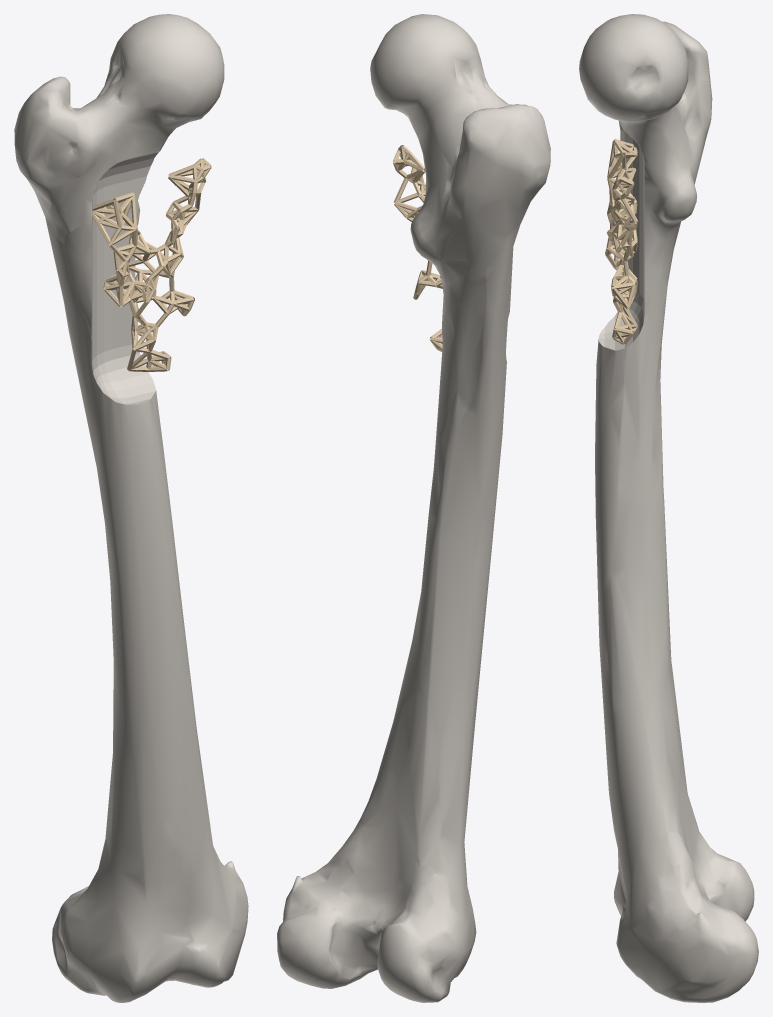
The model's file is femur_cutaway.glb.
3 views of the same model, side by side, from view 1: azimuth 30°, elevation 25°; view 2: azimuth 150°, elevation 25°; view 3: azimuth 270°, elevation 25° (orthographic). The views are drawn at different scales.
Visible parts, largest first — view 1: Femur_Cortical, Trabecular_Honeycomb; view 2: Femur_Cortical, Trabecular_Honeycomb; view 3: Femur_Cortical, Trabecular_Honeycomb.
Boxes of the visible parts, x1,y1,x2,y2 form: Femur_Cortical: (14, 14, 248, 1002); Trabecular_Honeycomb: (92, 158, 211, 371); Femur_Cortical: (277, 14, 550, 1002); Trabecular_Honeycomb: (393, 145, 442, 351); Femur_Cortical: (579, 14, 758, 1002); Trabecular_Honeycomb: (605, 139, 638, 344).
Bounding box in the file's own units: 0.1166 × 0.4544 × 0.0781.
